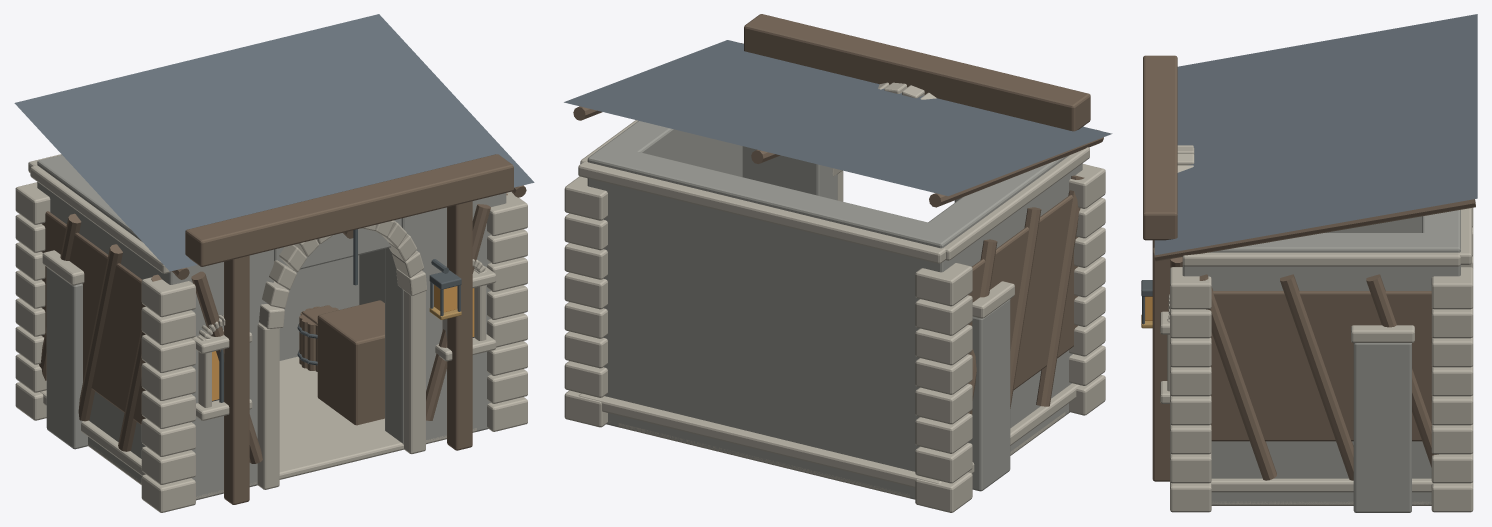
Rendered from service_4.glb.
3 views of the same model, side by side, from view 1: azimuth 30°, elevation 25°; view 2: azimuth 150°, elevation 25°; view 3: azimuth 270°, elevation 25° (orthographic). The views are drawn at different scales.
Visible parts, largest first — view 1: Front.004, Roof.004, Body.004, Side.004; view 2: Body.004, Roof.004, Front.004, Side.004; view 3: Side.004, Roof.004, Front.004, Body.004.
Part boxes in pixels (box(x1,y1,x2,y2)): Front.004: box(141, 154, 527, 512); Roof.004: box(14, 14, 534, 279); Body.004: box(15, 154, 476, 500); Side.004: box(359, 193, 507, 431); Body.004: box(578, 145, 1089, 512); Roof.004: box(564, 40, 1112, 207); Front.004: box(742, 14, 1105, 415); Side.004: box(564, 120, 742, 427); Side.004: box(1182, 233, 1473, 512); Roof.004: box(1153, 14, 1477, 261); Front.004: box(1141, 55, 1218, 512); Body.004: box(1211, 207, 1473, 505).
Size of the model in its own units: 3.19 by 2.5 by 2.41.
